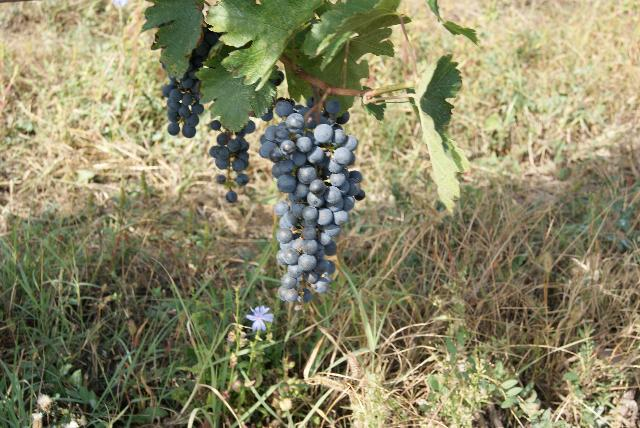grapes: (259, 99, 365, 302)
